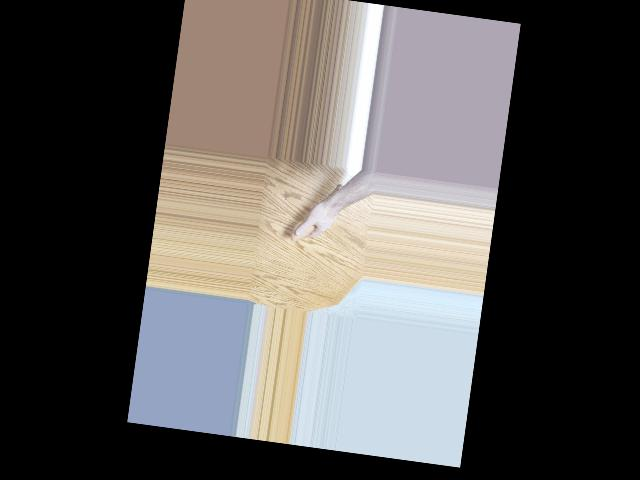sweet_potato: (289, 175, 348, 248)
